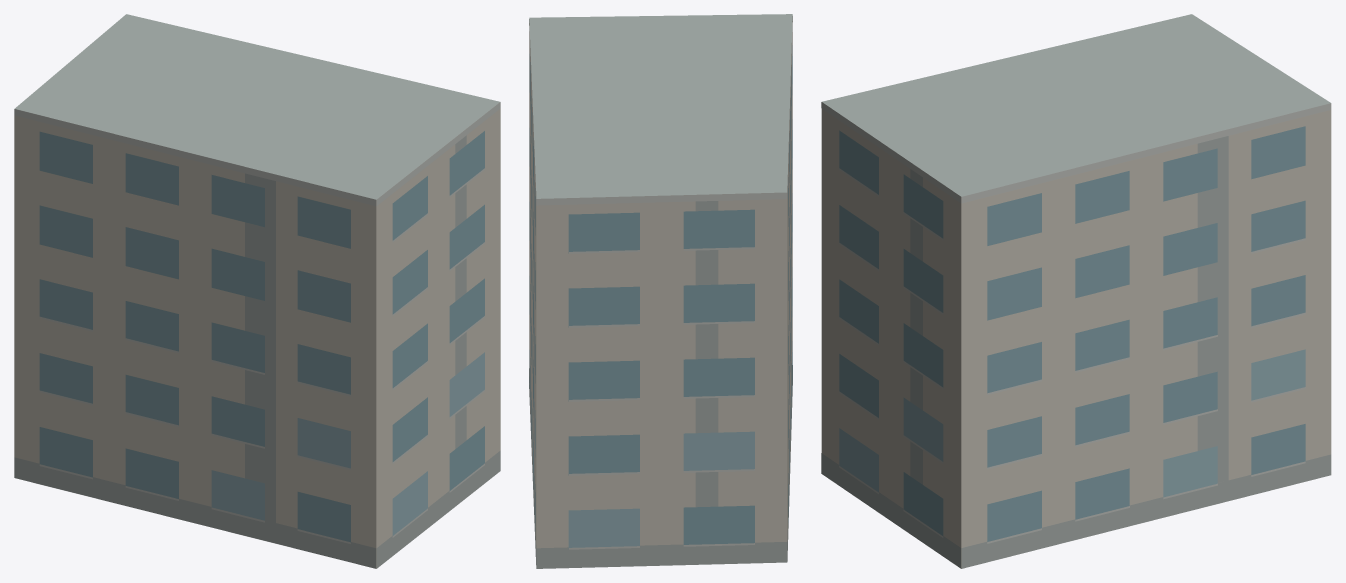
Rendered from survey-upis-32633760.glb.
3 renders of one model, left to right at view 1: azimuth 30°, elevation 25°; view 2: azimuth 150°, elevation 25°; view 3: azimuth 270°, elevation 25°, orthographic.
Parts seen in each view (by area): view 1: survey-upis-32633760.tmp; view 2: survey-upis-32633760.tmp; view 3: survey-upis-32633760.tmp.
Boxes of the visible parts, x1,y1,x2,y2 form: survey-upis-32633760.tmp: [14, 14, 500, 568]; survey-upis-32633760.tmp: [529, 14, 792, 568]; survey-upis-32633760.tmp: [821, 14, 1331, 568].
Bounding box in the file's own units: 14.35 × 13.6 × 16.9.
